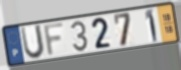1: (144, 8, 159, 44)
2: (91, 17, 115, 52)
3: (68, 19, 89, 53)
7: (113, 12, 134, 49)
F: (42, 20, 66, 59)
U: (19, 23, 47, 61)
